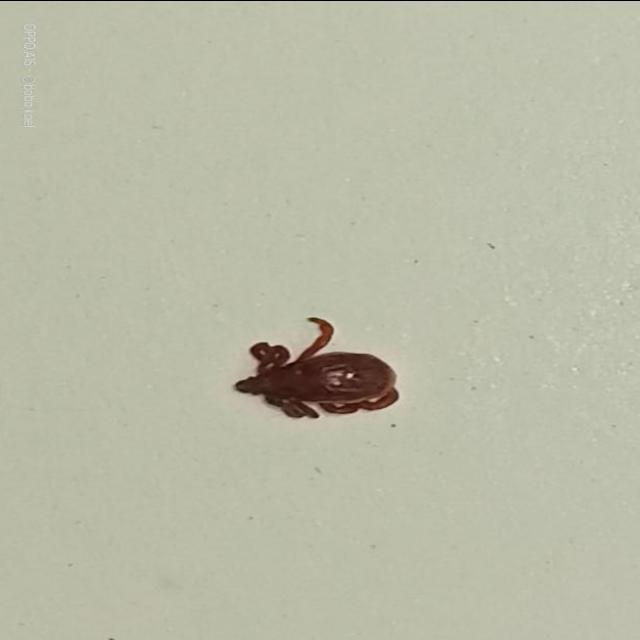Rhipicephalus Sanguineus-M: (231, 316, 398, 419)
